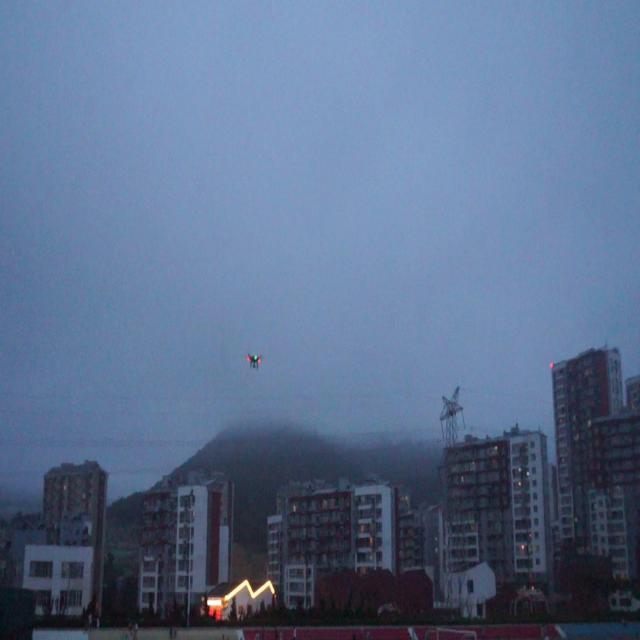UAV: (246, 353, 264, 371)
